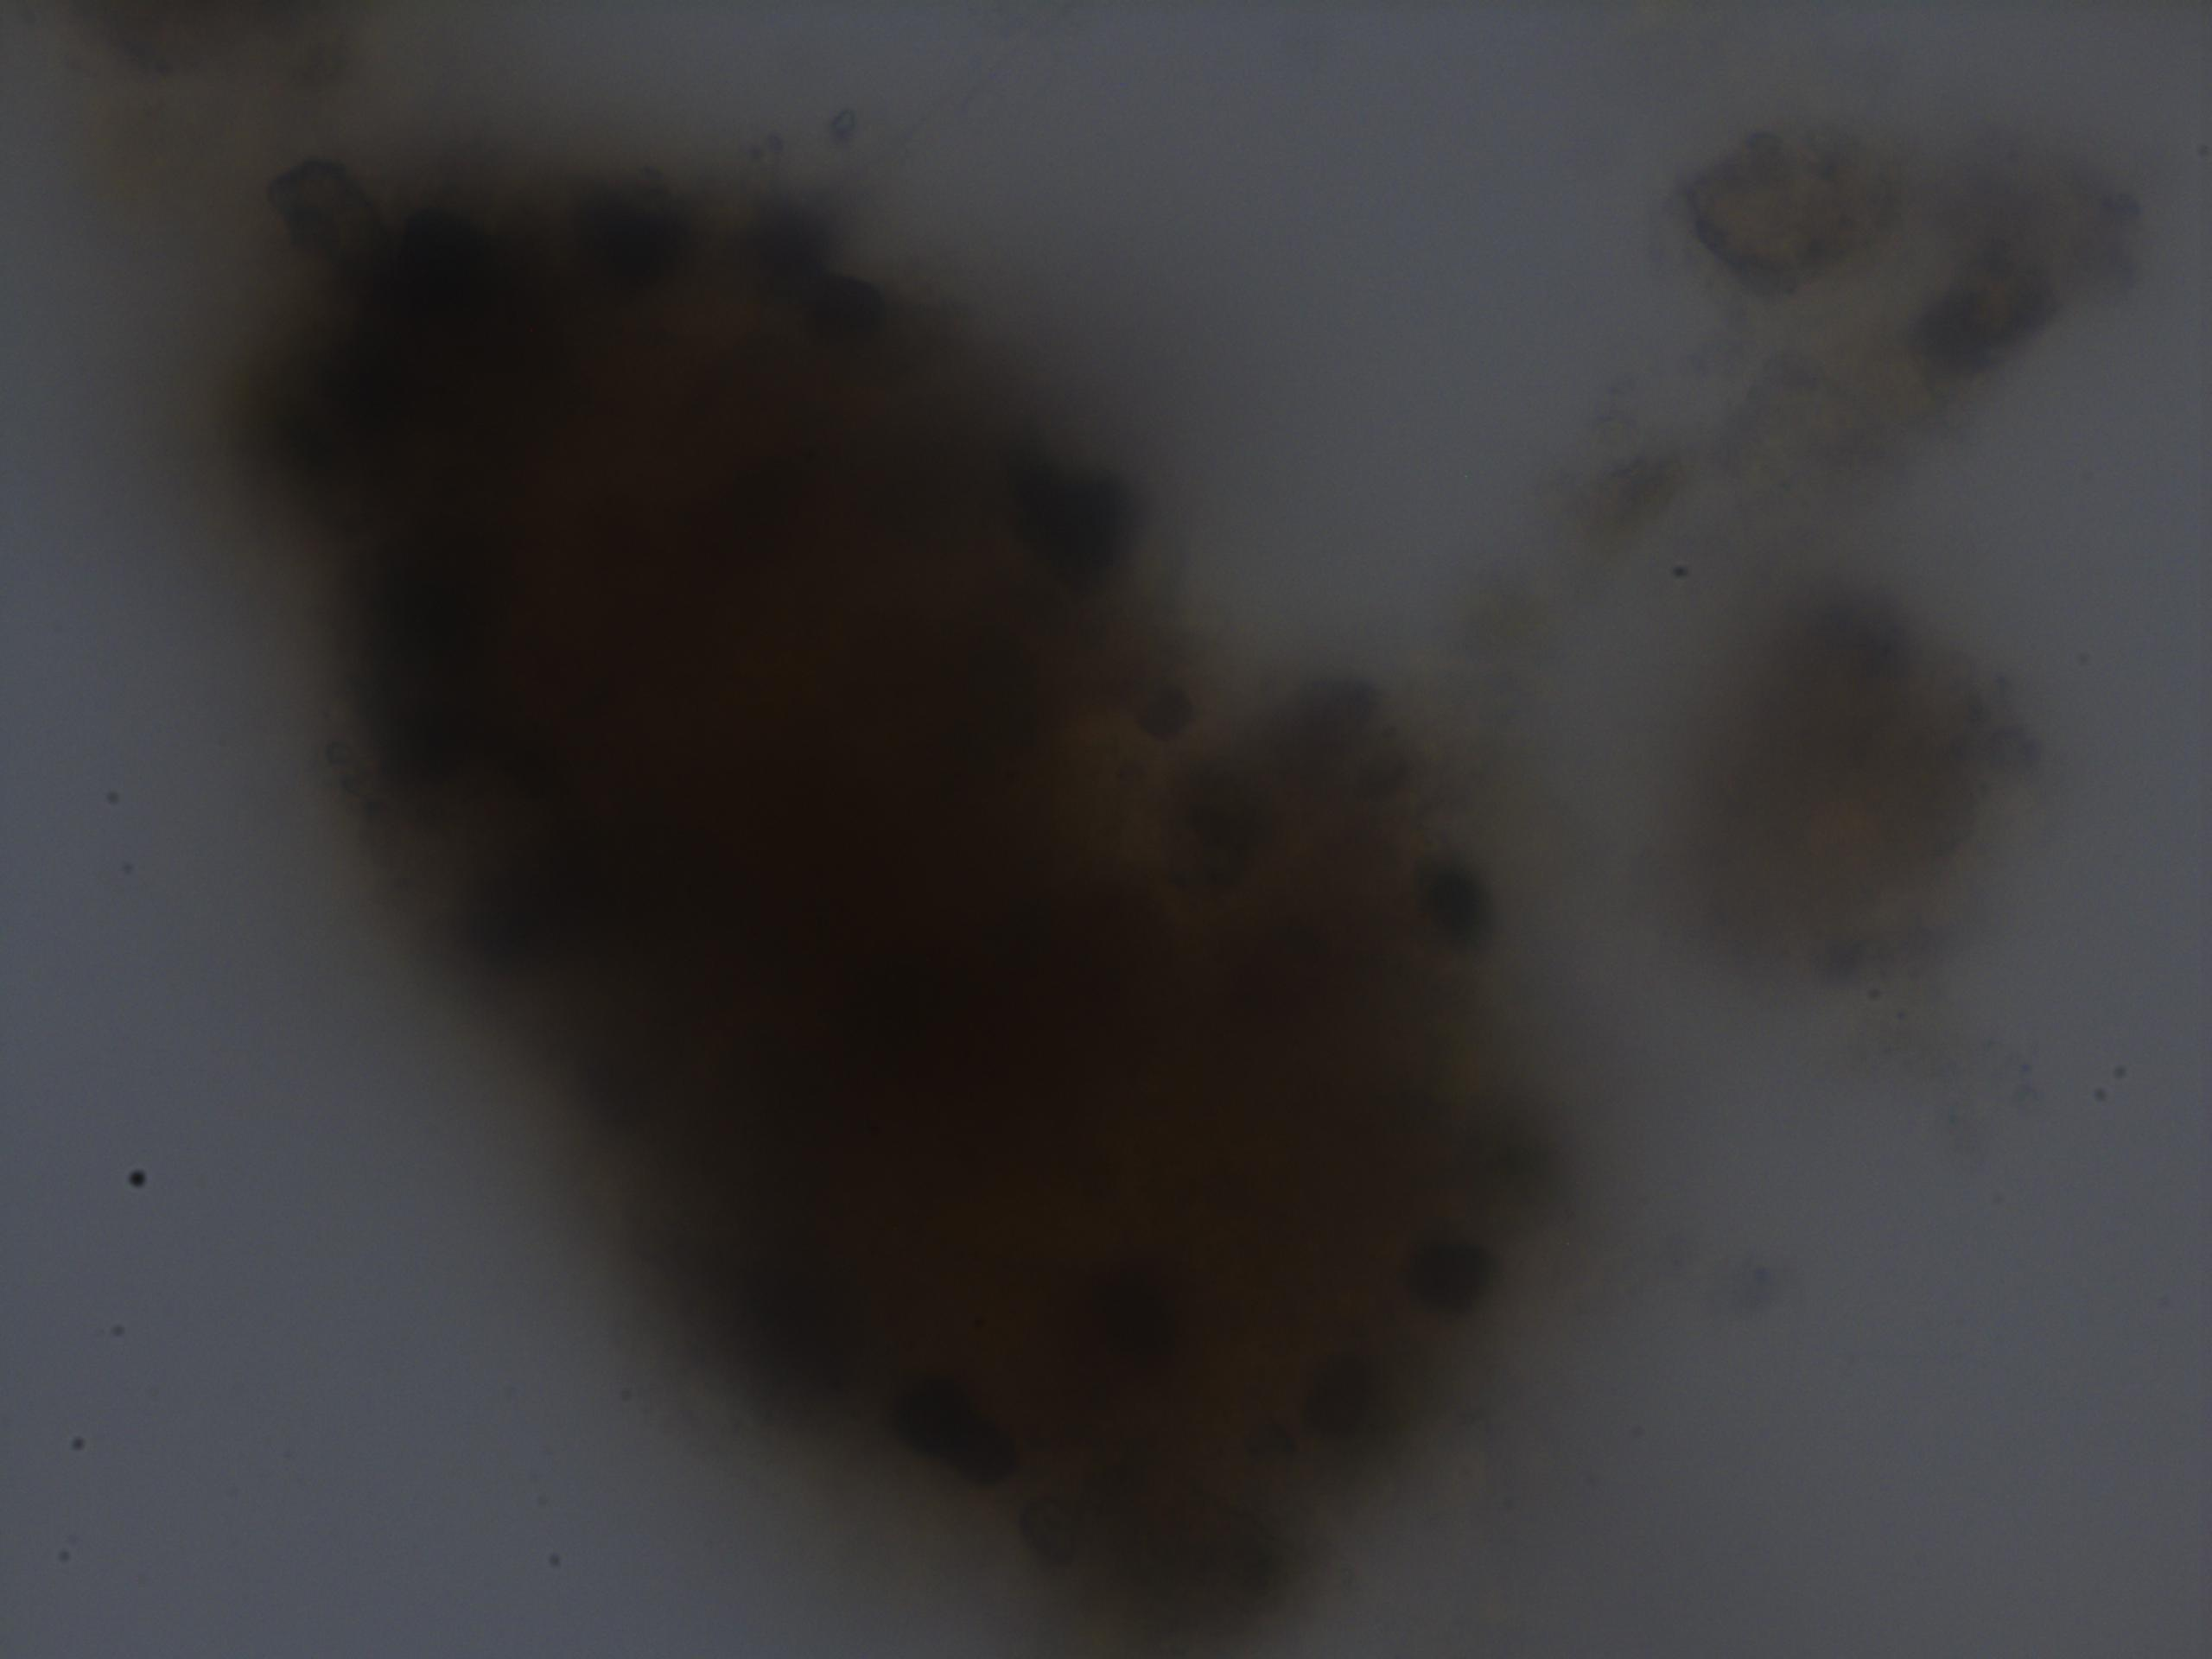spherical_floc: (235, 108, 1580, 1659)
